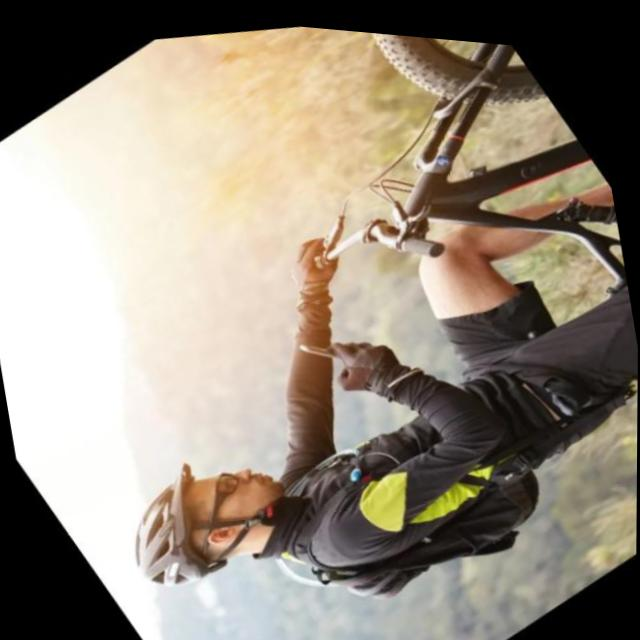USING_MOBILE: (48, 249, 486, 635)
